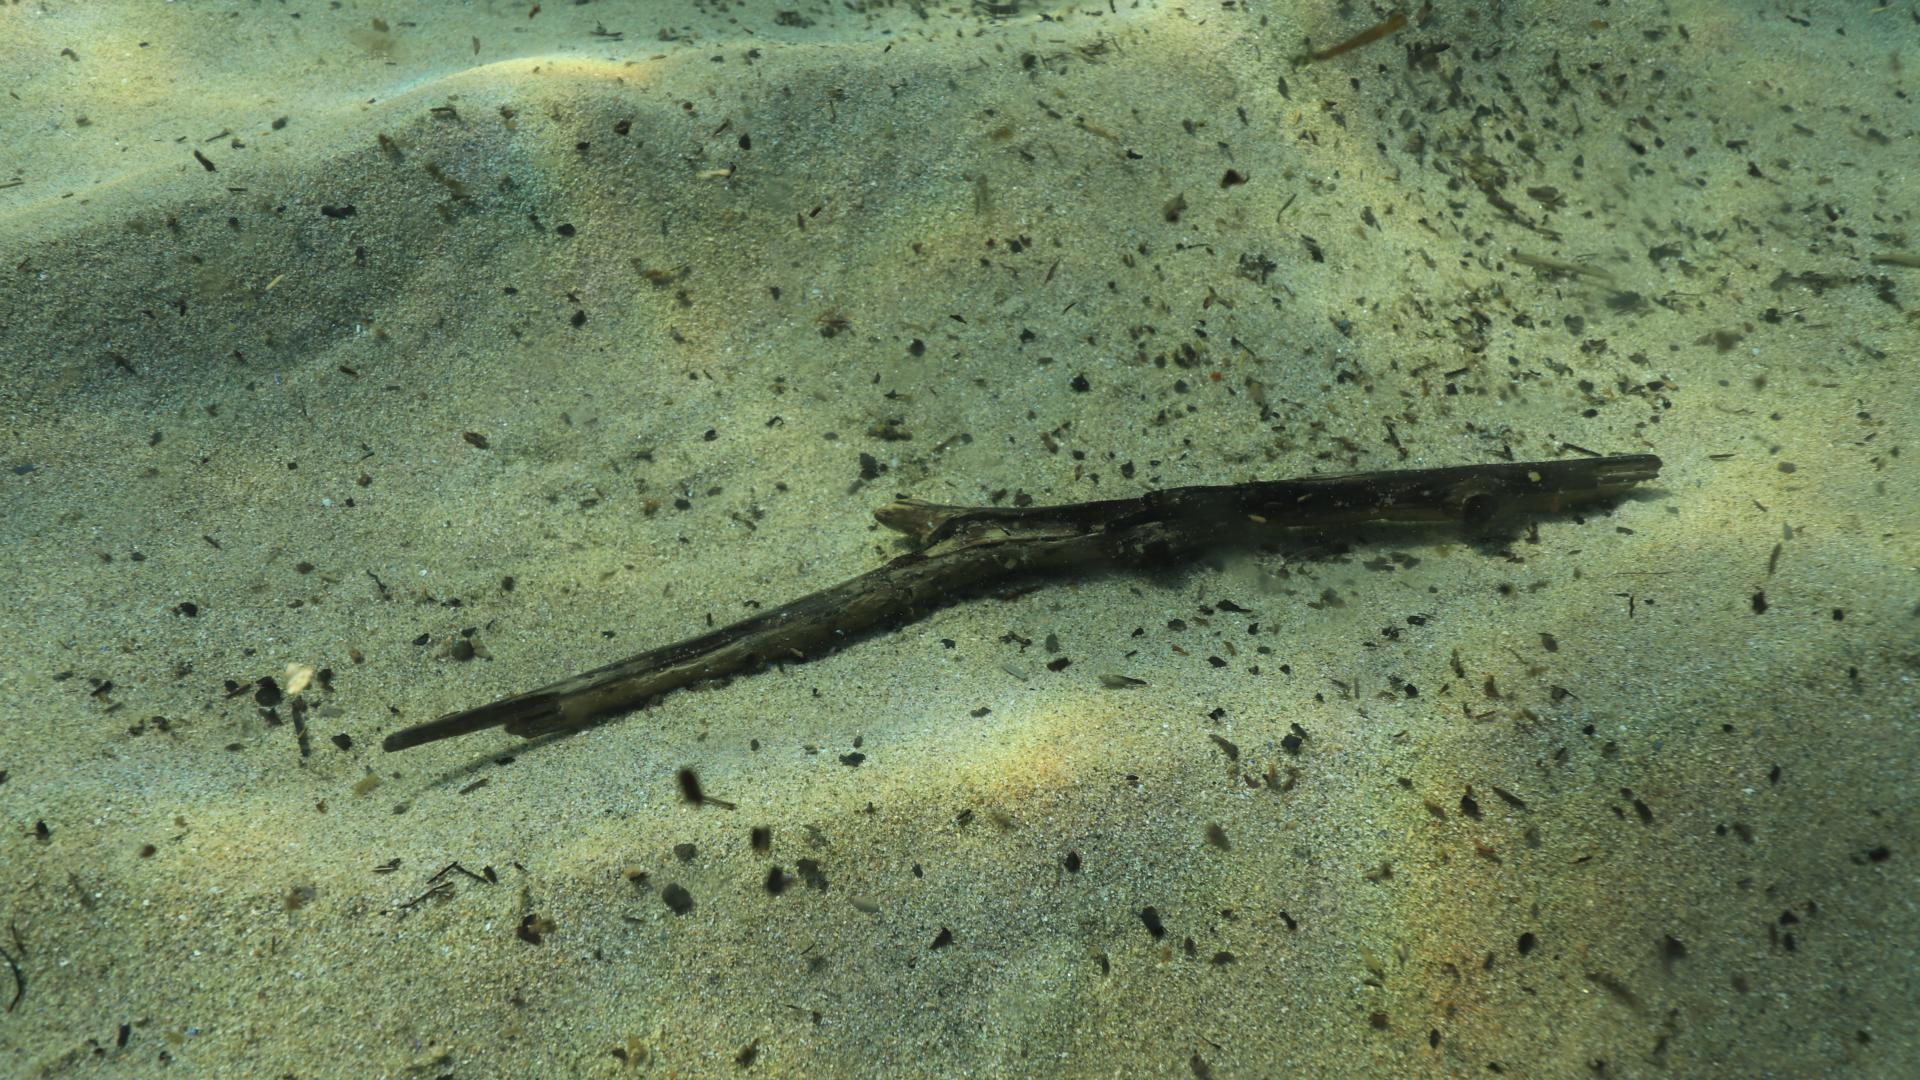wood: (381, 451, 1664, 752)
